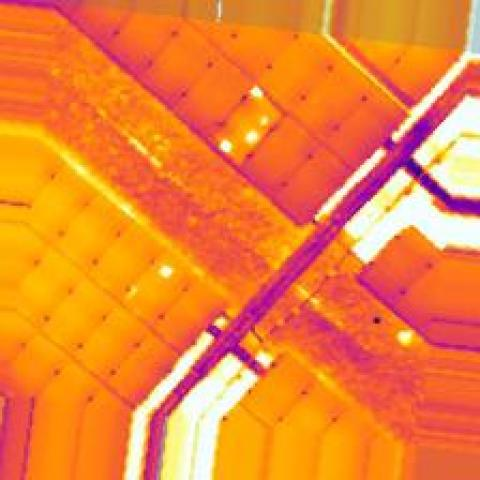fault: (396, 326, 418, 349), (156, 261, 176, 285), (216, 135, 236, 154), (248, 81, 266, 101), (126, 285, 140, 302), (244, 130, 257, 144), (257, 116, 270, 126)
